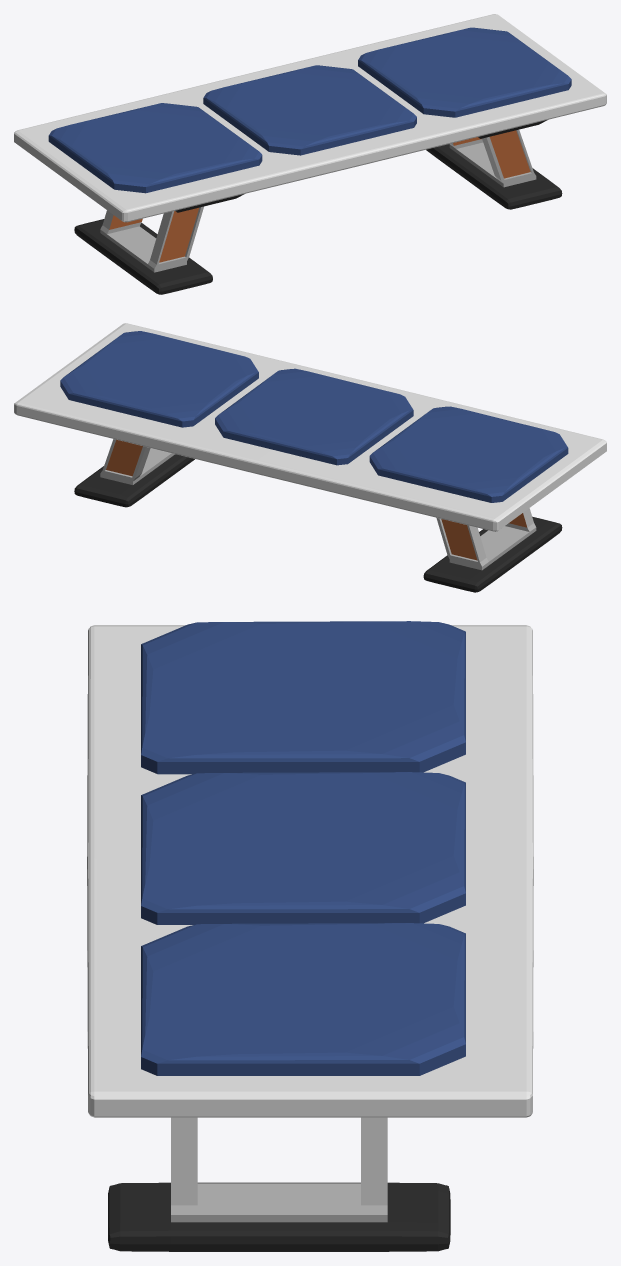
File: bench.fbx
3 renders of one model, top to bottom at view 1: azimuth 30°, elevation 25°; view 2: azimuth 150°, elevation 25°; view 3: azimuth 270°, elevation 25°, orthographic. The views are drawn at different scales.
Parts seen in each view (by area): view 1: bench; view 2: bench; view 3: bench.
Part boxes in pixels (box(x1,y1,x2,y2)): bench: box(14, 14, 606, 294); bench: box(14, 323, 606, 592); bench: box(87, 621, 533, 1251).
Bounding box in the file's own units: 242 × 51.83 × 96.38.
